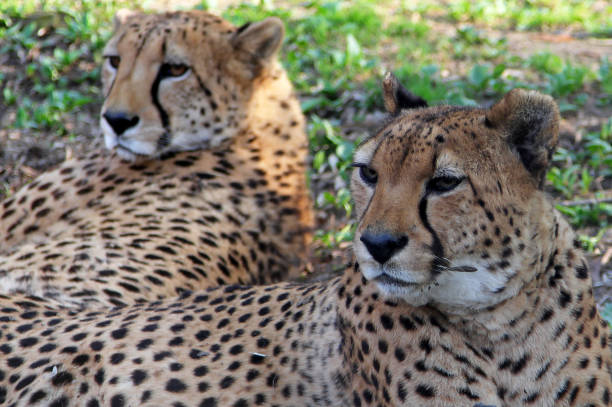cheetah: (331, 53, 586, 336), (76, 4, 291, 199)
